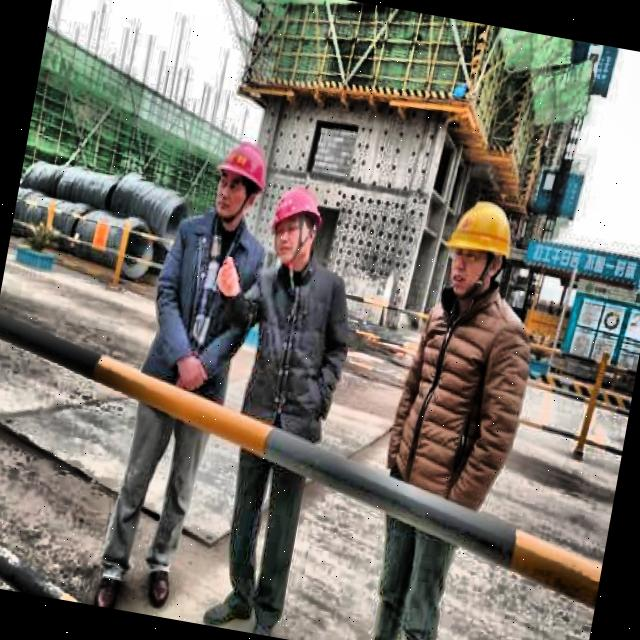helmet: (436, 192, 524, 310), (260, 175, 330, 277), (206, 134, 274, 228)
